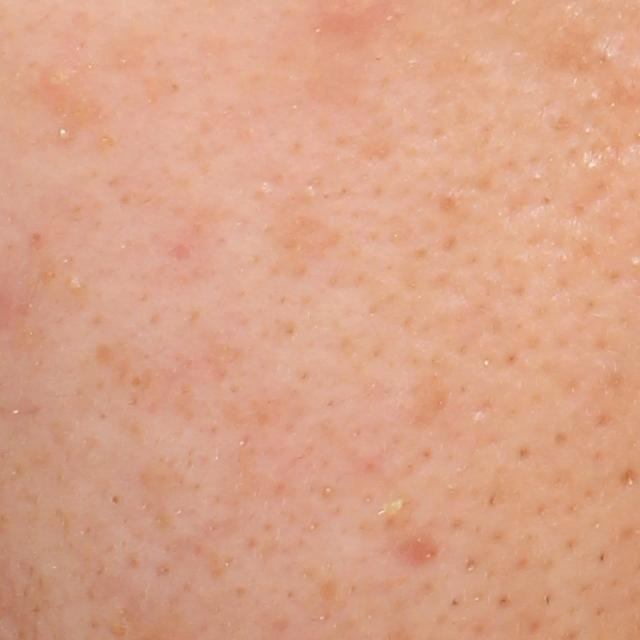atrophic_scar: (394, 537, 452, 573)
comedo: (52, 121, 79, 147), (103, 490, 123, 511)
